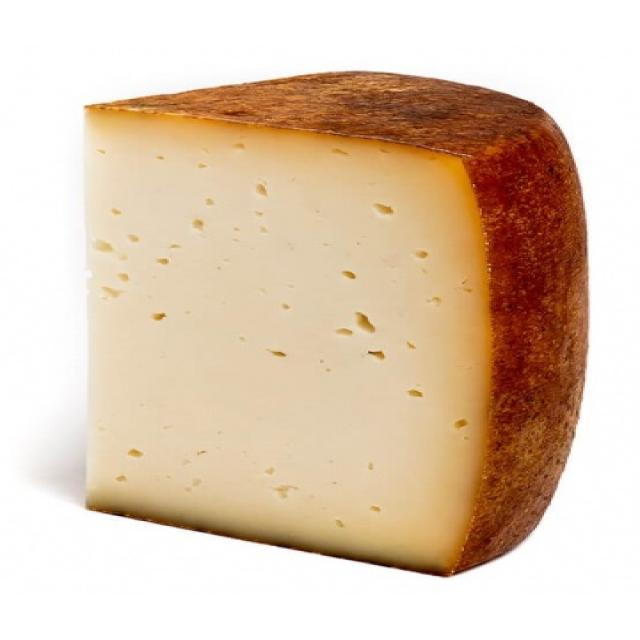Cheese: (69, 46, 581, 570)
